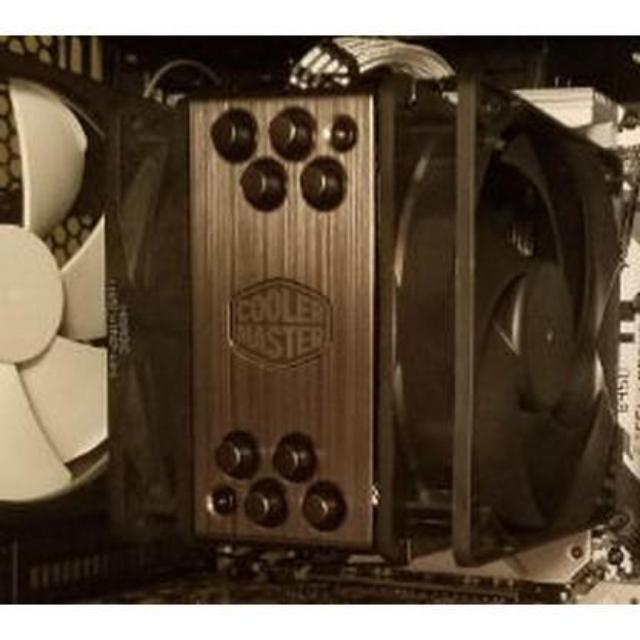CPU_Fan: (106, 90, 623, 562)
